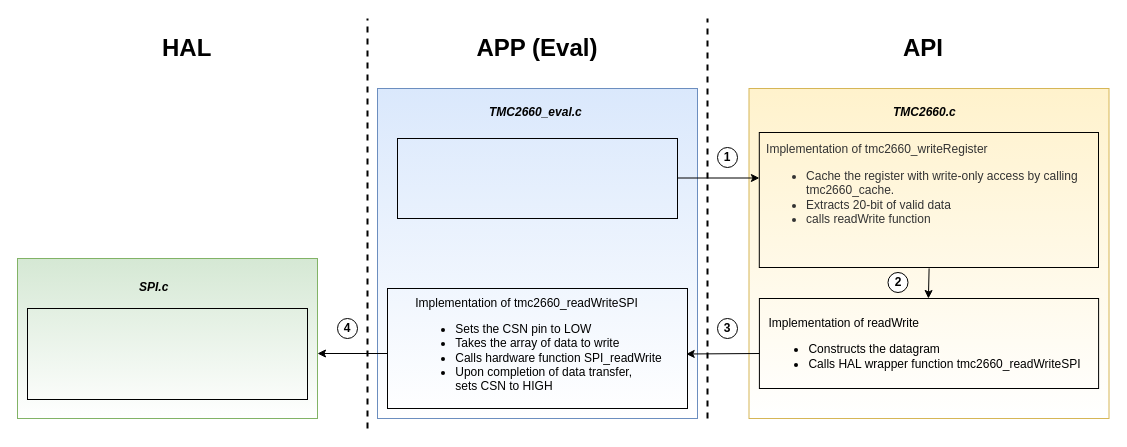
Image size: 1127x447. Some labels were removed from this diagram. The shapes that lost their labels are listed below. From the top down, each one's centre as x and y in pixels, then its label:
the point at 537,178: Write to a register Calls tmc2660_writeRegister function
the point at 167,354: Implementation of SPI_readWrite Sends bytes on the SPI bus
